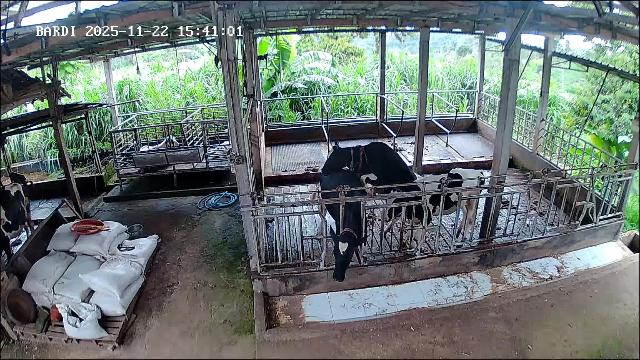mounting: (320, 140, 418, 198)
